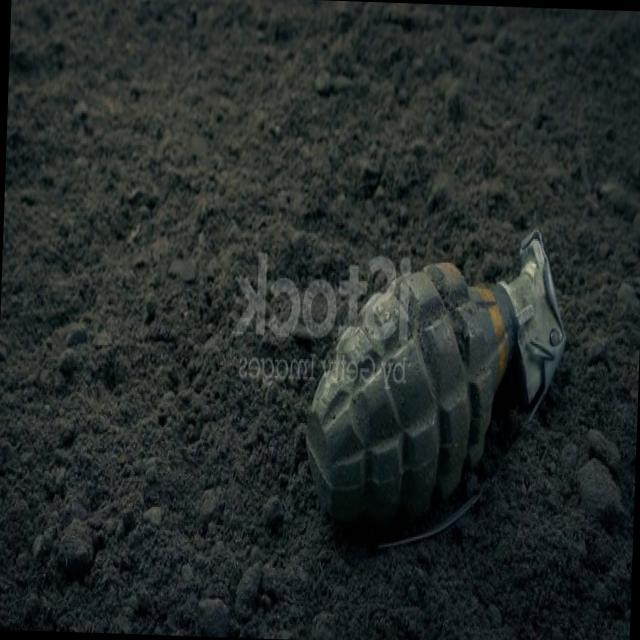grenade: (297, 217, 577, 554)
